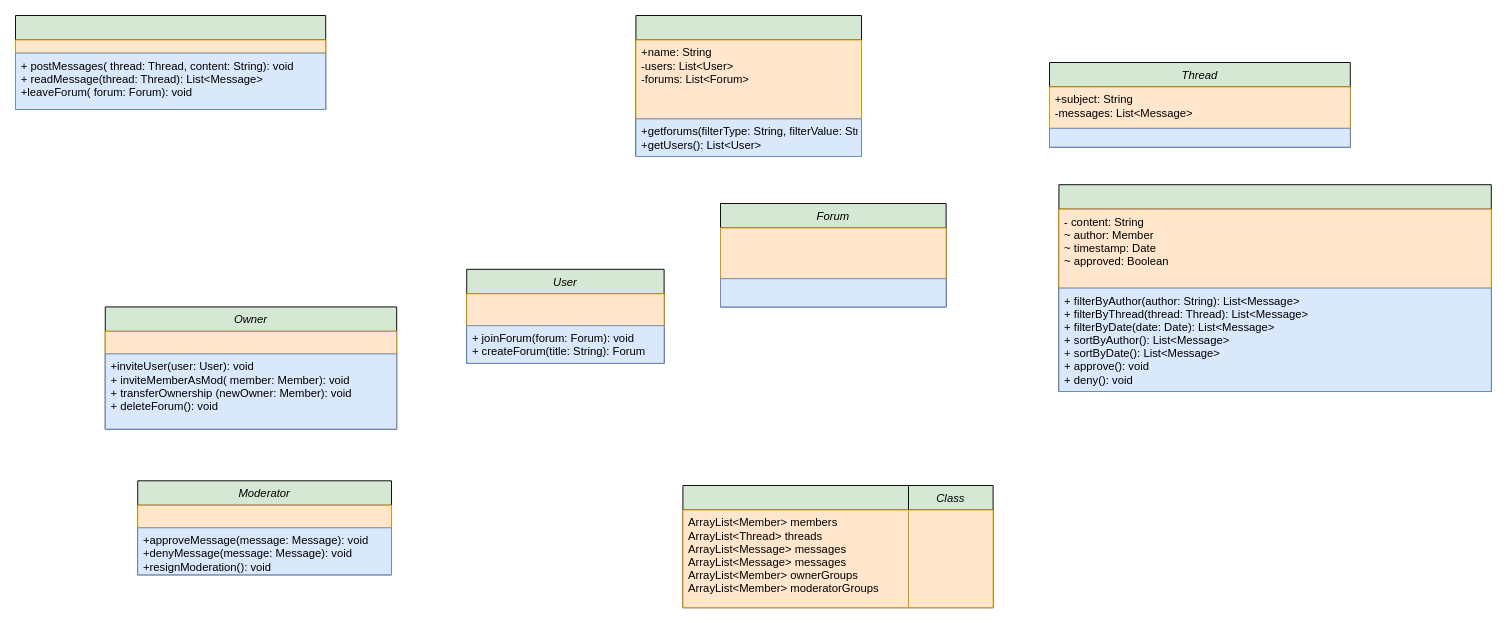
Image size: 1507x623. Some labels were removed from this diagram. The shapes that lost their labels are listed below. From the top down, each one's box as (x1, y1, x2, y2) in pixels, then its label:
(15, 15, 326, 110): Member
(635, 15, 862, 157): Website
(720, 227, 946, 279): - title: String ~ owner: Owner ~ moderator: Moderator
(720, 278, 946, 307): +addMember(member: Member): void
(1058, 184, 1491, 392): Message
(466, 293, 664, 326): + username: String
(682, 485, 909, 608): Data Structure
(908, 509, 993, 608): Forum Forum Thread Member Owner Moderator
